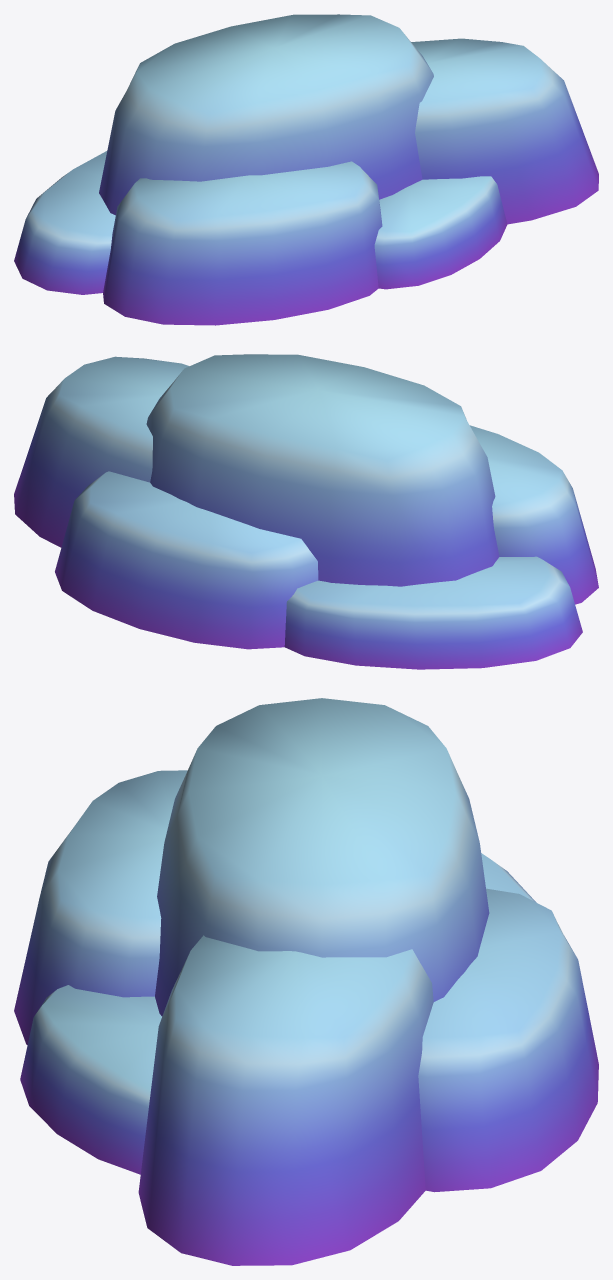
Rendered from Rocks_1.fbx.
3 renders of one model, top to bottom at view 1: azimuth 30°, elevation 25°; view 2: azimuth 150°, elevation 25°; view 3: azimuth 270°, elevation 25°, orthographic. The views are drawn at different scales.
Visible parts, largest first — view 1: Rocks_1; view 2: Rocks_1; view 3: Rocks_1.
Part boxes in pixels (bbox=[...]): Rocks_1: bbox=[14, 14, 598, 325]; Rocks_1: bbox=[14, 354, 598, 669]; Rocks_1: bbox=[14, 698, 598, 1265].
Bounding box in the file's own units: 0.5682 × 1.82 × 1.12.
